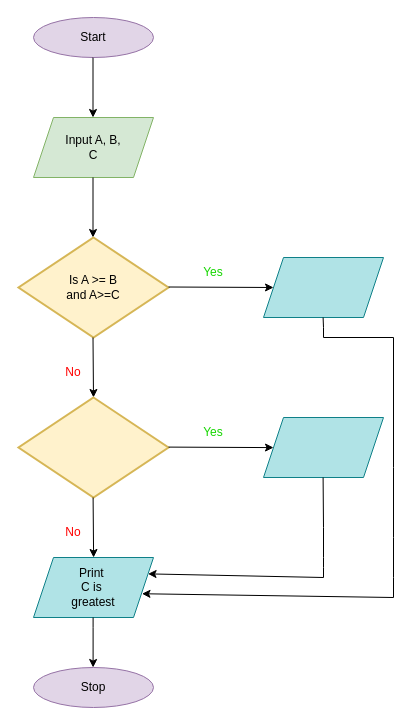
This 419x725 diagram has some shape labels left out. Each missing label, with the centre of its shape:
"Is B >= A and B >=C" belongs at [93,447].
"Print A is greatest" belongs at [323,287].
"Print B is greatest" belongs at [323,447].
